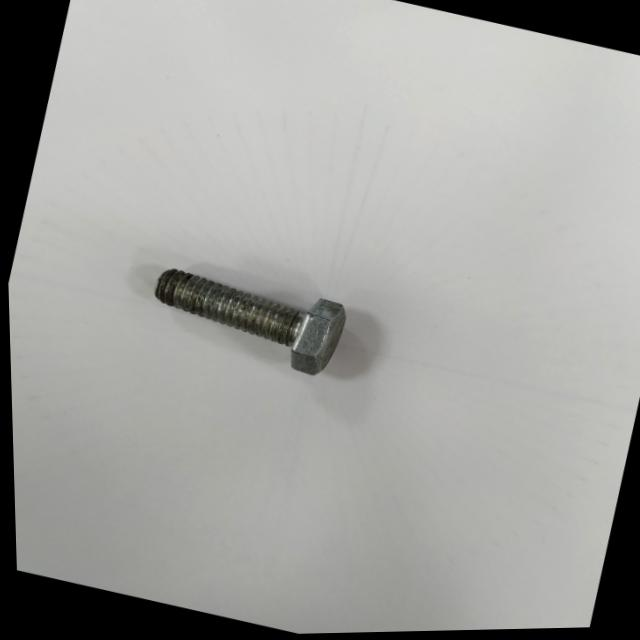Bolt: (152, 269, 343, 376)
